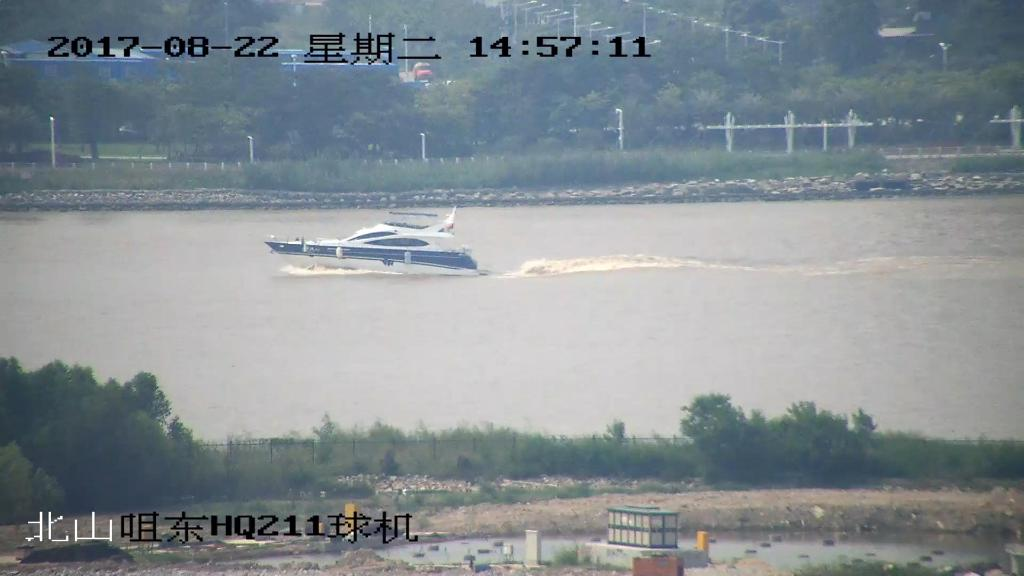PassengerShip: (256, 202, 490, 282)
